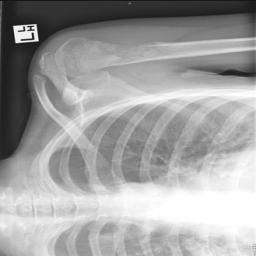cancer: (84, 36, 256, 68)
